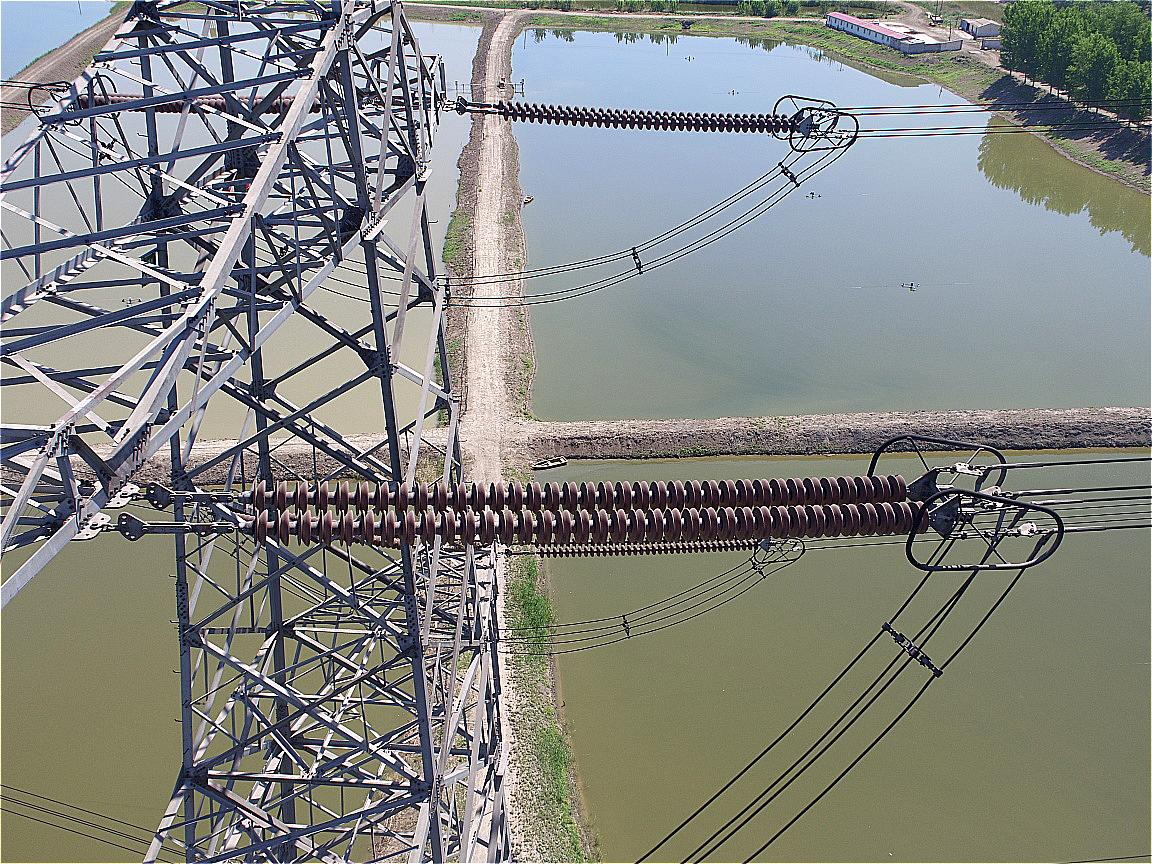insultor1: (500, 99, 798, 136)
insultor2: (247, 469, 932, 549)
